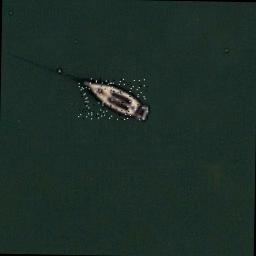boat: (78, 78, 149, 120)
